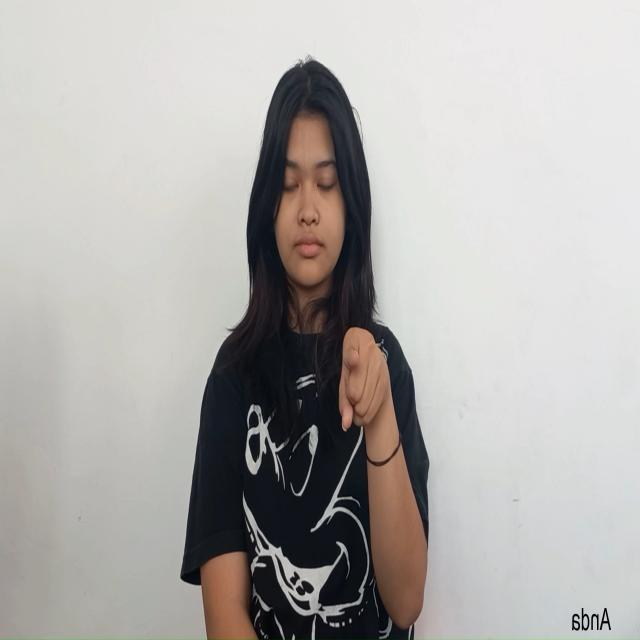Anda -BISINDO-: (337, 323, 392, 433)
